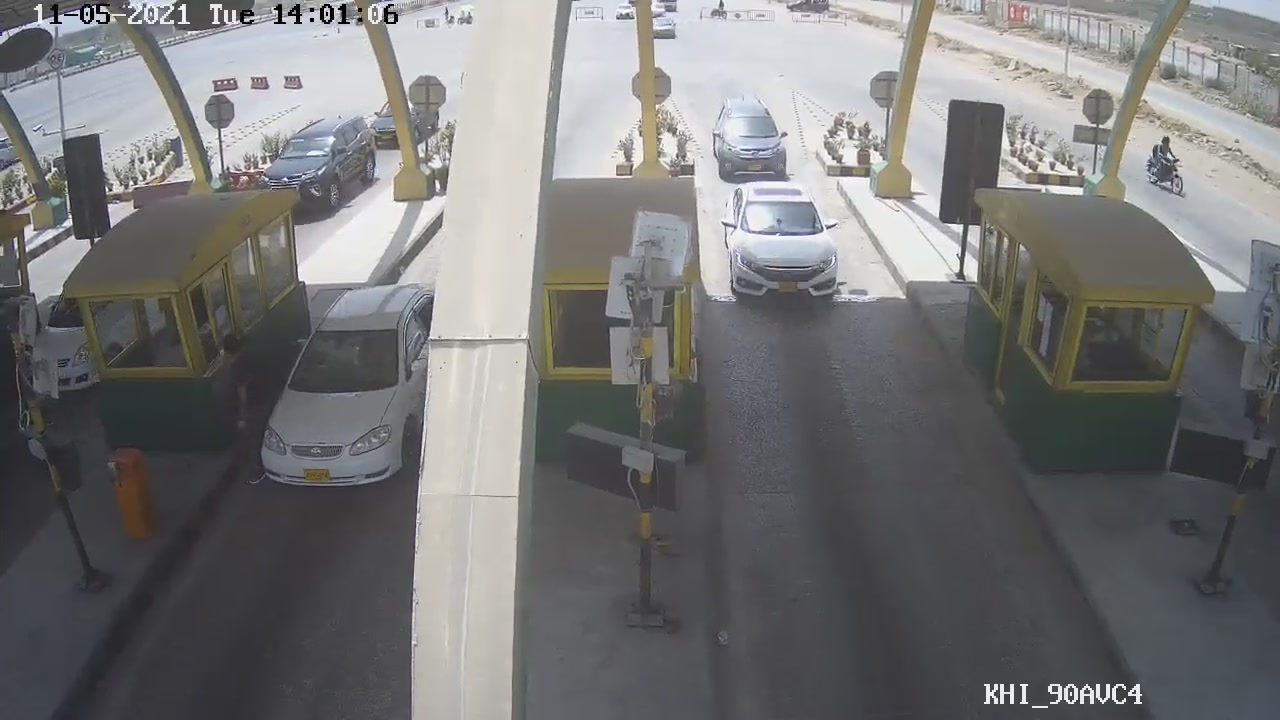F1: (718, 179, 845, 305)
